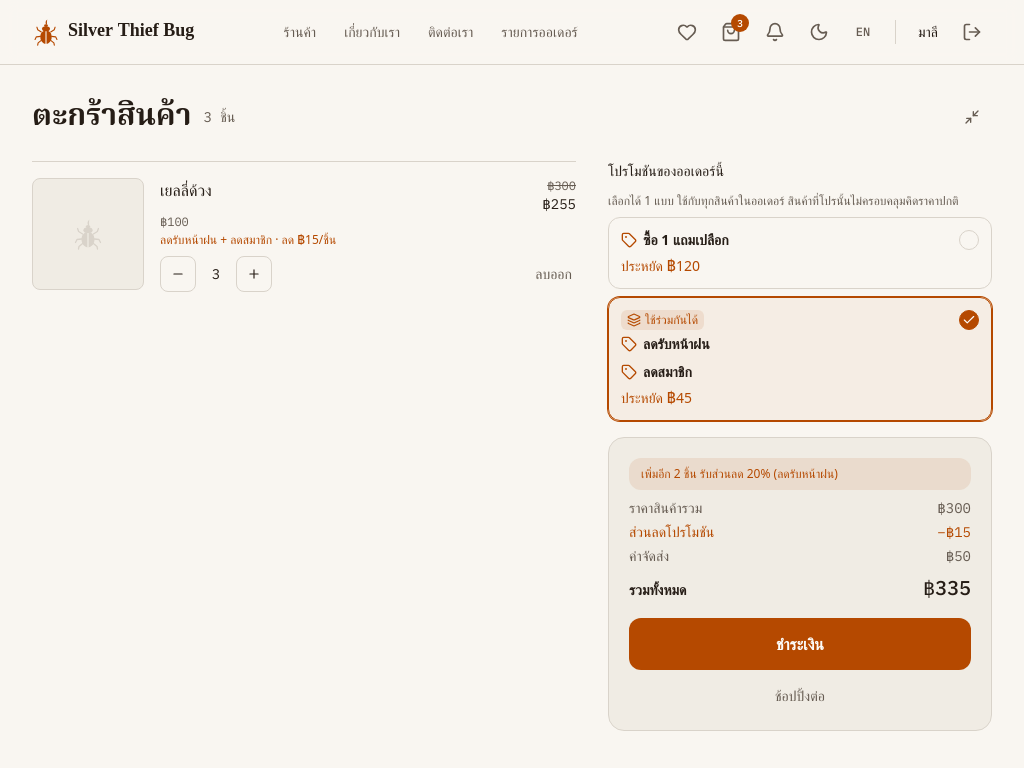
Test: the Order's Promotion › the Cart page shows one card per option with what it saves; one pick covers the whole Order
expect the heading "ตะกร้าสินค้า" is shown: met, box [32,99,191,135]
expect the text "เลือกได้ 1 แบบ ใช้กับทุกสินค้าในออเดอร์ สินค้าที่โปรนั้นไม่ครอบคลุมคิดราคาปกติ" is shown: met, box [608,193,992,209]
Click the radio button labelled "ซื้อ 1 แถมเปลือก ประหยัด ฿120" at [686, 240], box [608,217,992,289]
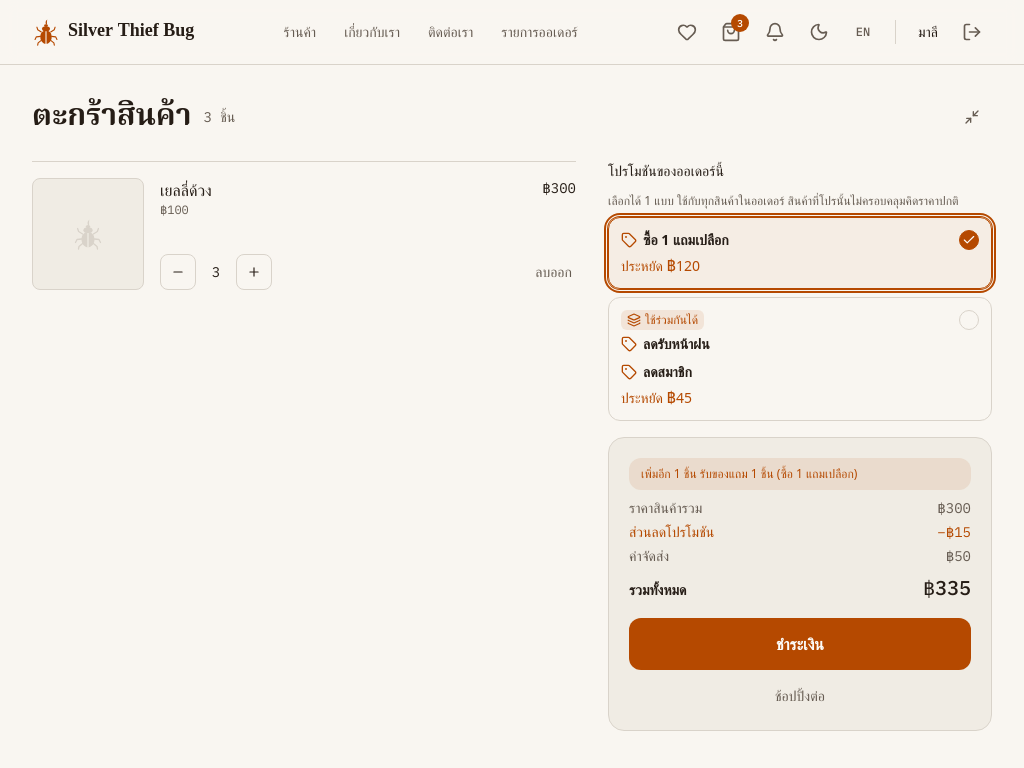
expect the radio button labelled "ซื้อ 1 แถมเปลือก ประหยัด ฿120" is checked: met, box [608,217,992,289]
expect the text "เพิ่มอีก 1 ชิ้น รับของแถม 1 ชิ้น (ซื้อ 1 แถมเปลือก)" is shown: met, box [629,458,971,490]
expect the text "รับส่วนลด 20%" is gone: met
